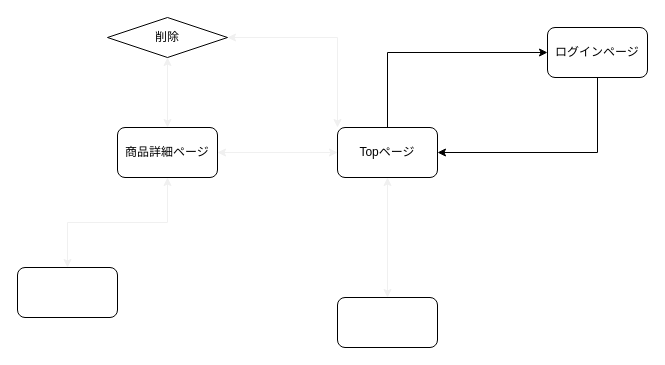
Image size: 665x365. Some labels were removed from this diagram. Each missing label, with the centre of its shape:
"出品ページ" belongs at point 387,322.
"編集ページ" belongs at point 67,292.
